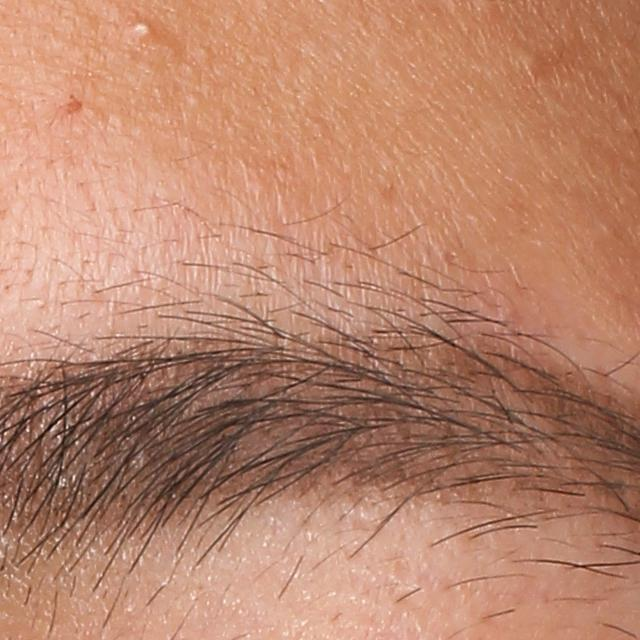comedo: (508, 44, 542, 75)
pustule: (128, 19, 160, 42)
